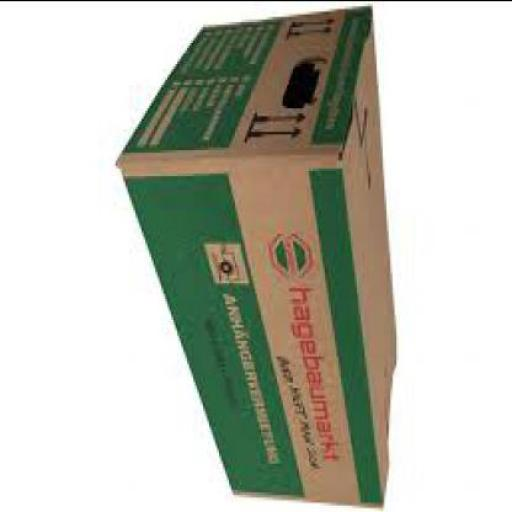cardboard: (121, 0, 398, 502)
